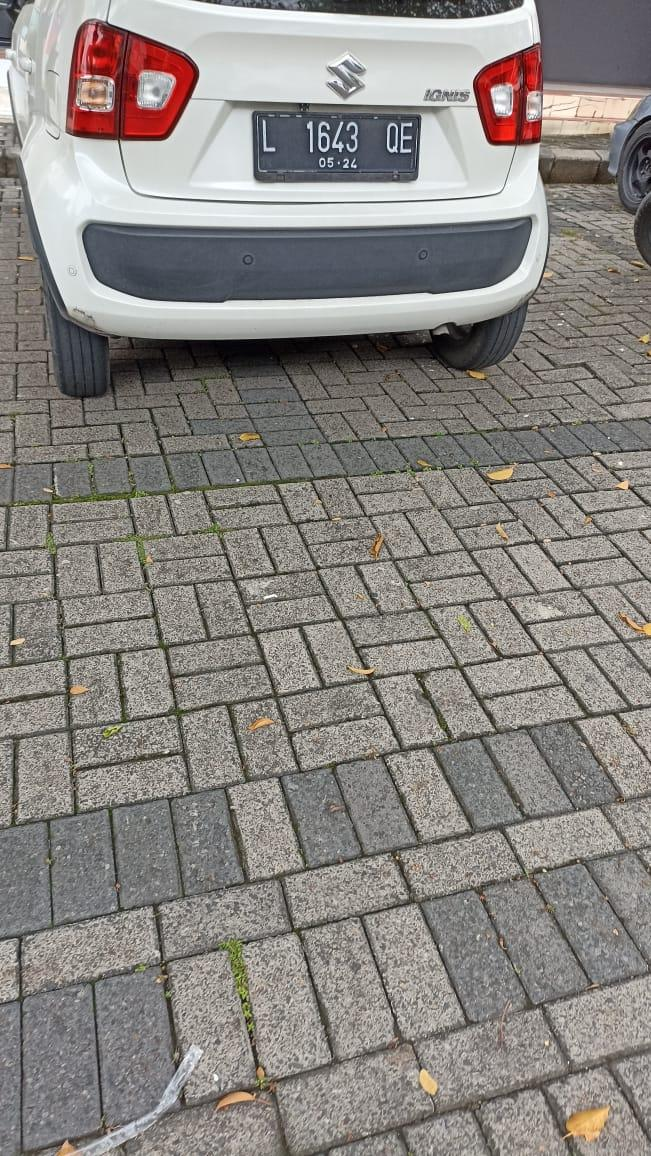plat: (253, 111, 419, 181)
